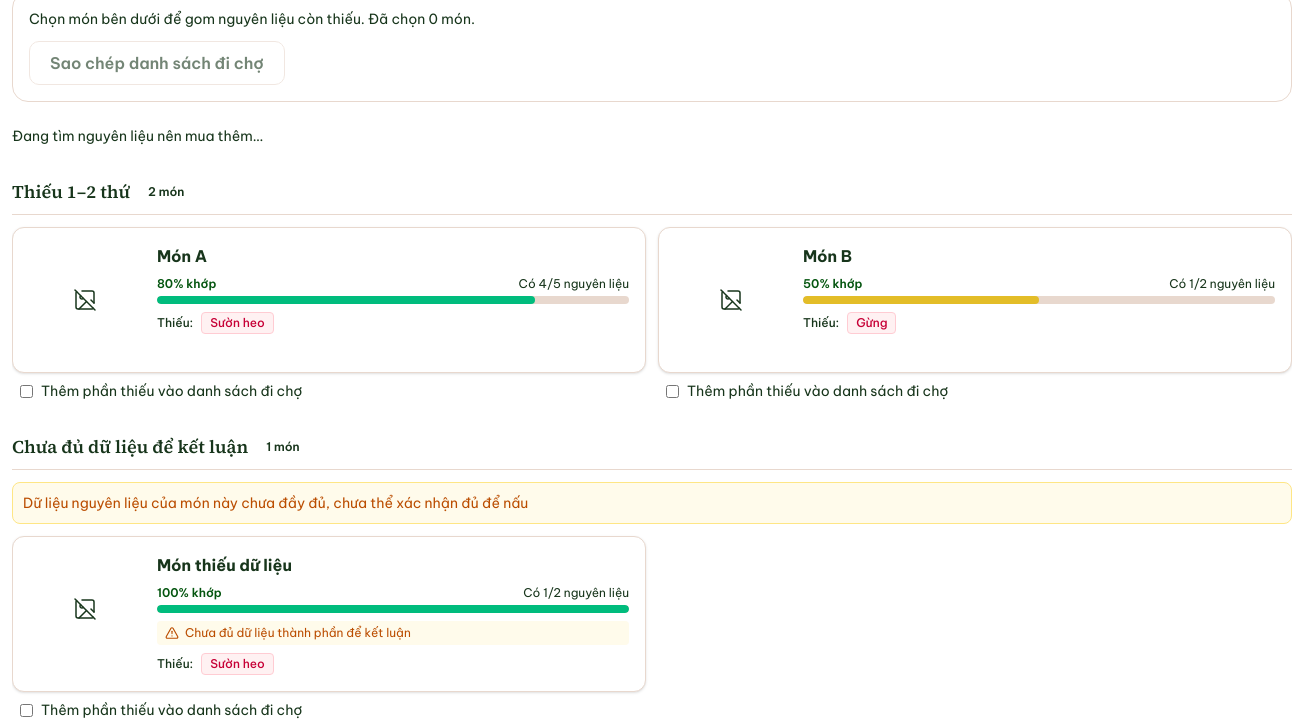
FE11 in the real FE09 tab › refreshes BE12 with pantry changes and clears shopping selections for a new match query
The width and height of the screenshot is (1292, 720).
(page scrolled)
Click the checkbox named "Thêm nguyên liệu thiếu của Món A vào danh sách đi chợ". click: (26, 391)
box: [20,384,33,398]
(page scrolled)
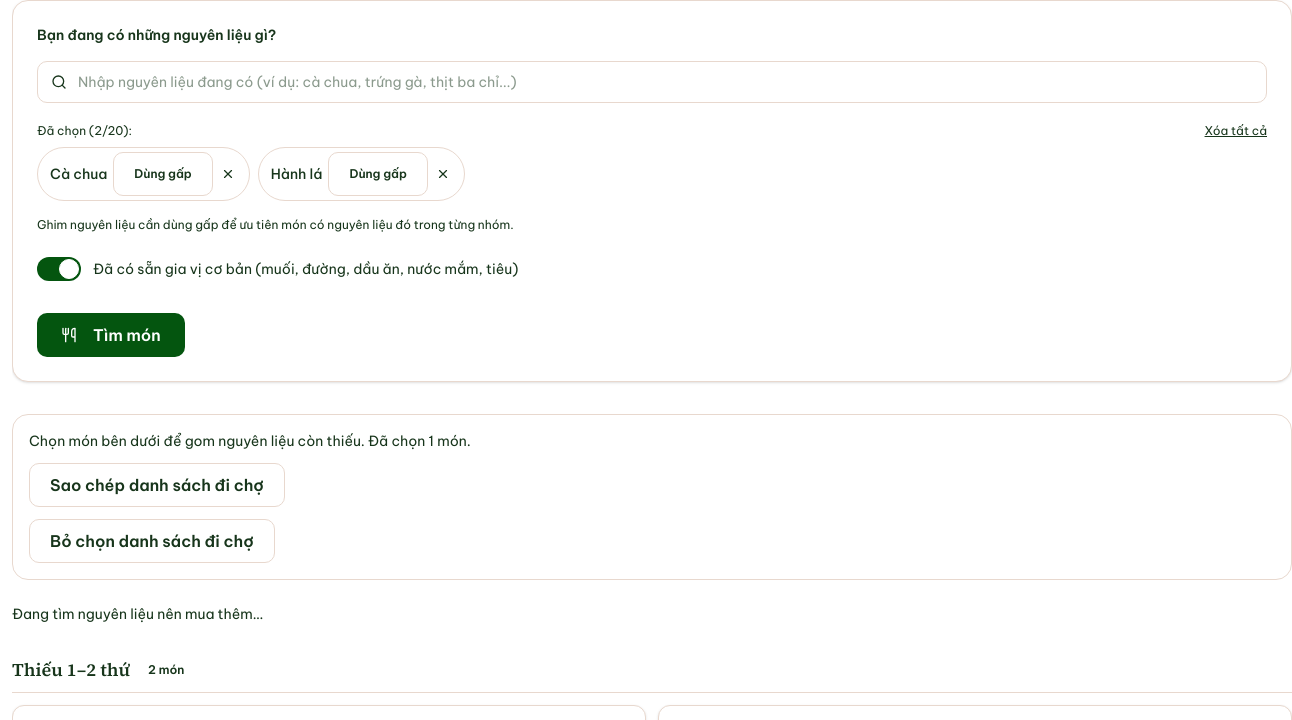
Click the checkbox. click: (59, 269)
box: [37,257,81,281]
(page scrolled)
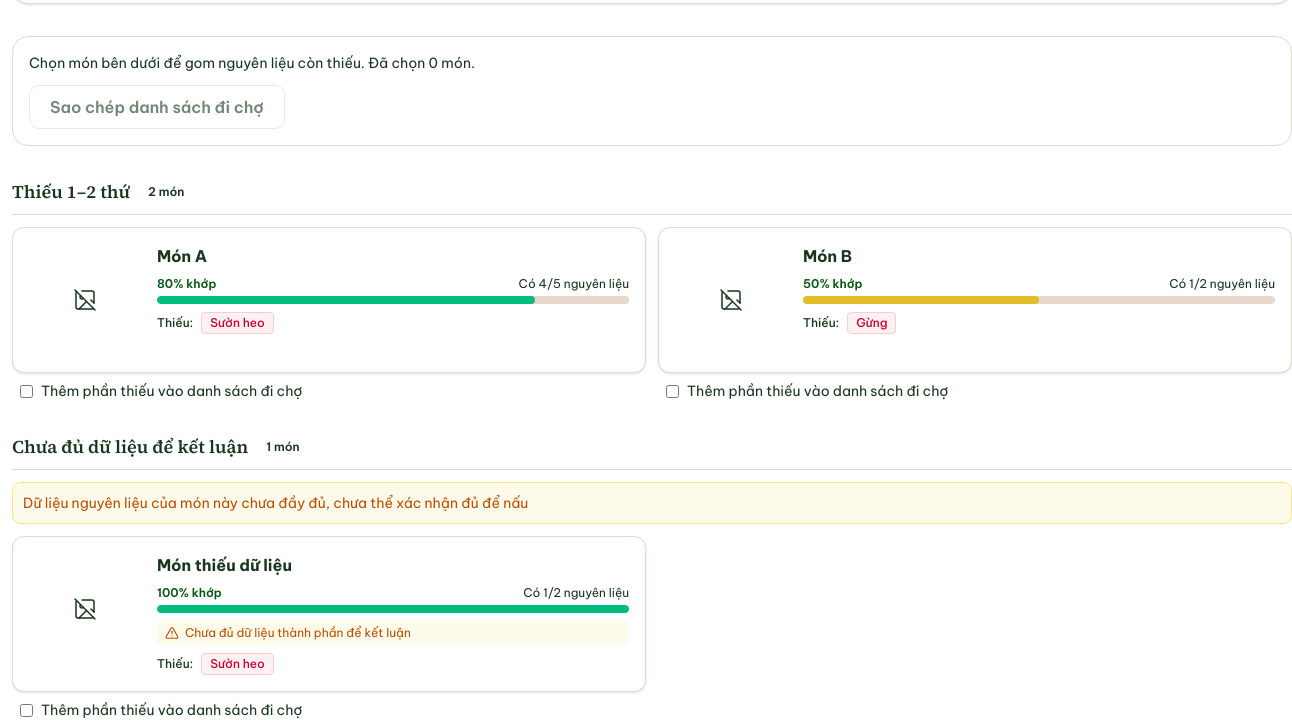
Result: the checkbox named "Thêm nguyên liệu thiếu của Món A vào danh sách đi chợ" is not checked at [20,384,33,398]
